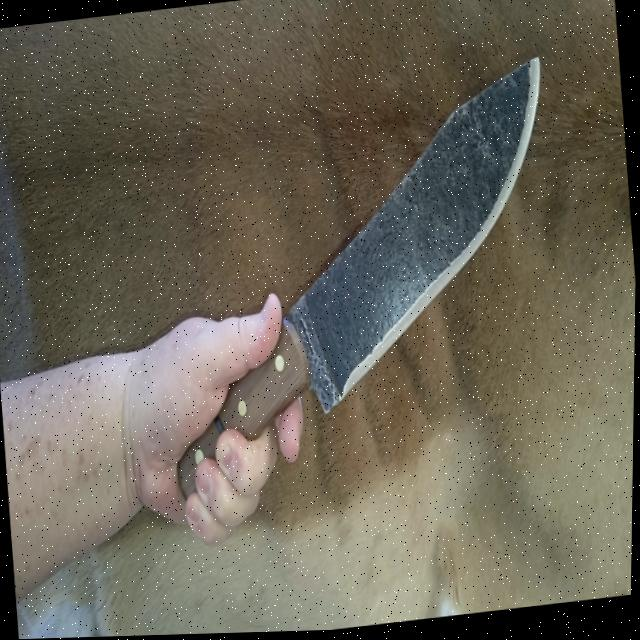knife: (259, 53, 571, 425)
